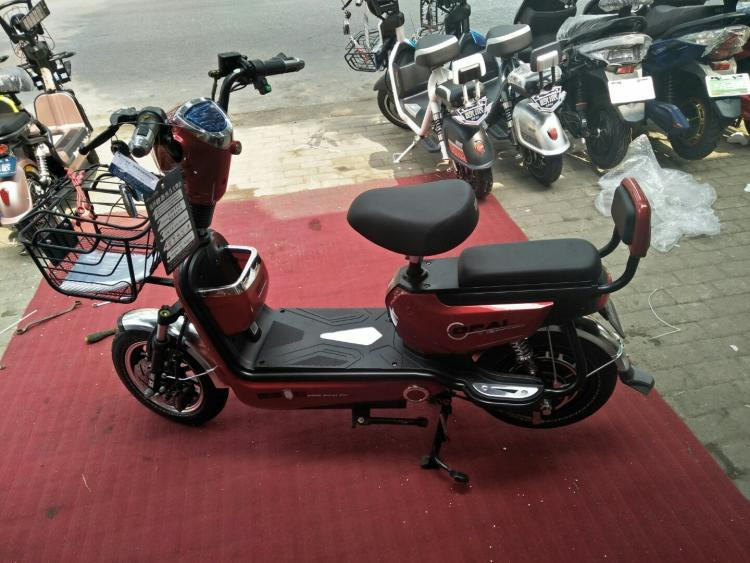non-vehicle: (104, 67, 655, 432), (340, 1, 502, 198), (430, 1, 571, 185), (1, 0, 90, 241), (535, 1, 654, 167), (659, 0, 747, 160)
